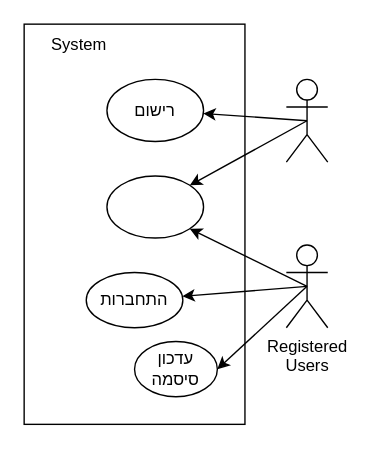
The diagram is 378 pixels wide and 449 high, and some of its shapes have lost their labels. The shapes that lost their labels are listed below. From the top down, each one's box as (x1, y1, x2, y2) in pixels, then its label:
(285, 78, 328, 162): Unregistered Users
(106, 175, 204, 238): חיפוש מניות
